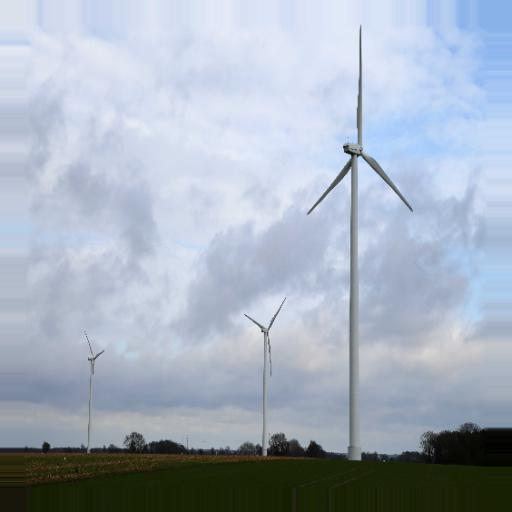wind turbine: (302, 23, 413, 457), (243, 295, 286, 458), (81, 330, 108, 451)
